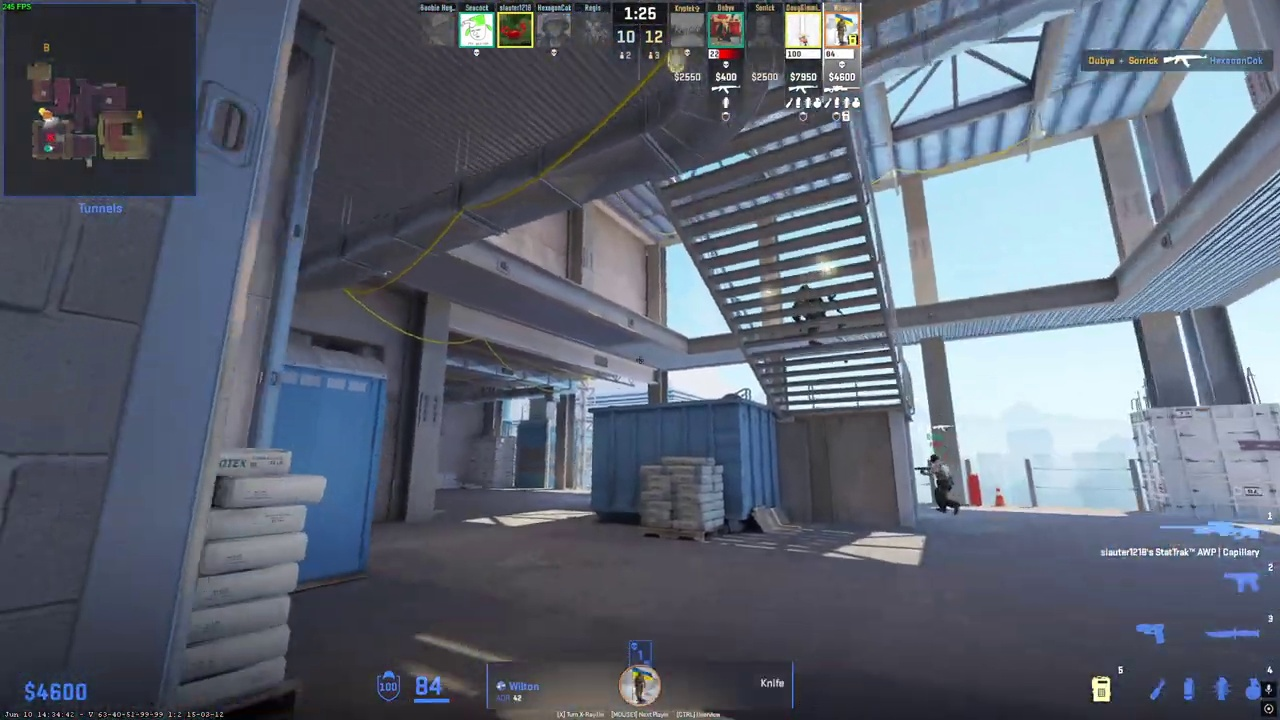Terrorist: (928, 454, 959, 515)
